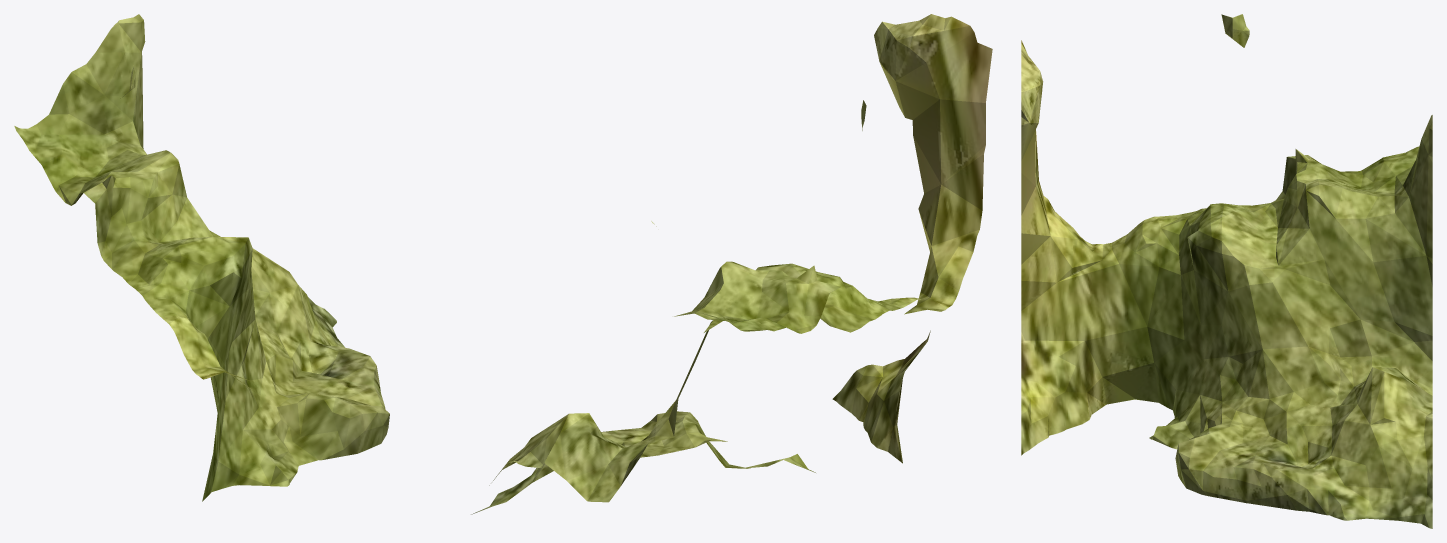
3 renders of one model, left to right at view 1: azimuth 30°, elevation 25°; view 2: azimuth 150°, elevation 25°; view 3: azimuth 270°, elevation 25°, orthographic. The views are drawn at different scales.
Size of the model in its own units: 2.41 by 2.95 by 2.95.
3 materials, 3 textured.
